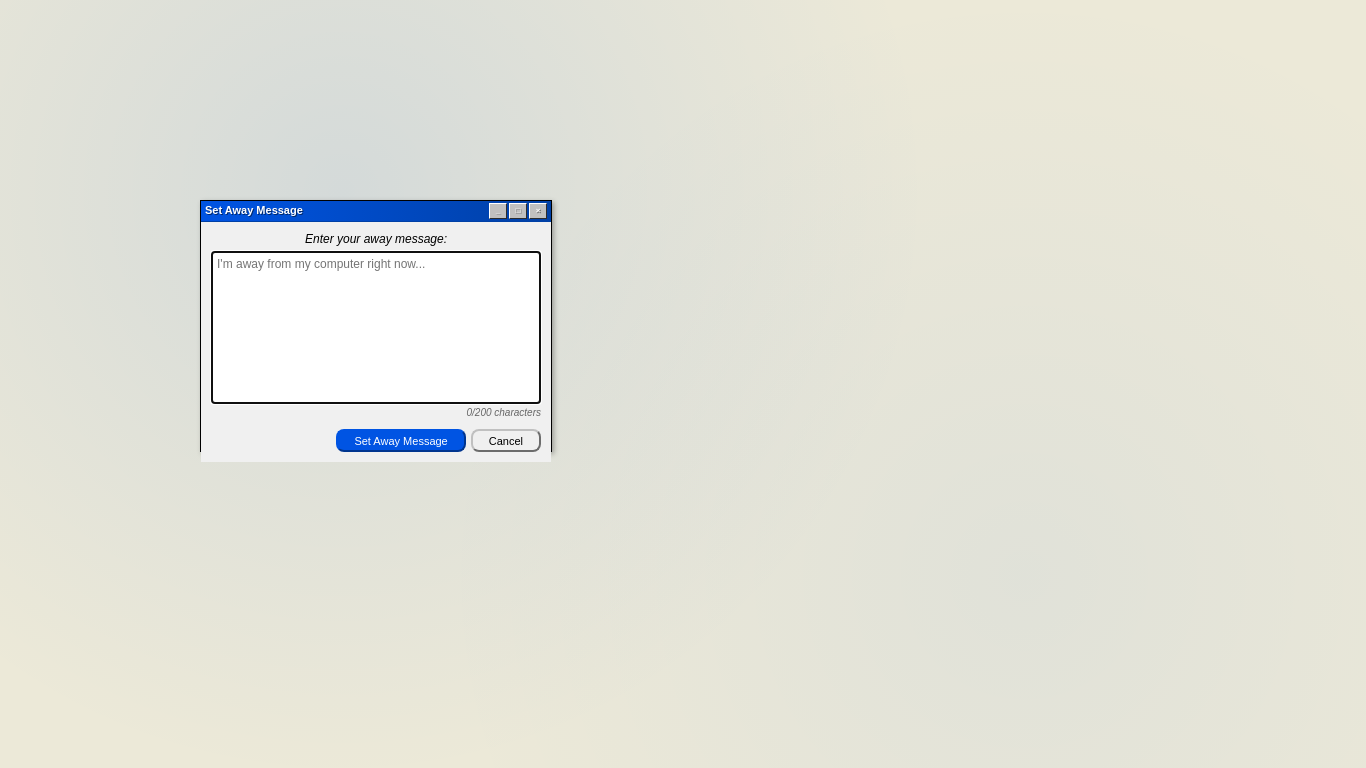
Test case: AwayMessageDialog Component › updates character count when typing
In the text box with placeholder "I'm away from my computer right now...": (376, 328) [211,251,541,404], type "Be back soon"
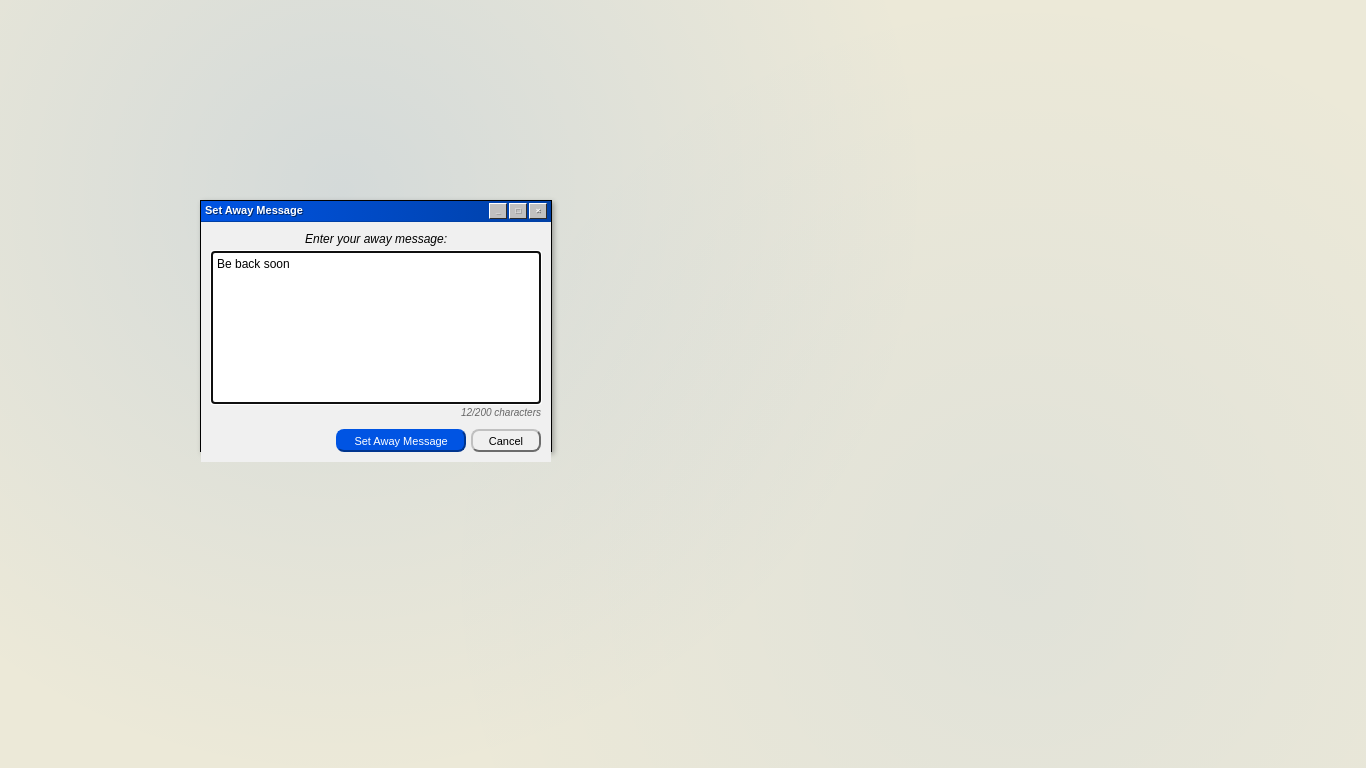
Expected: the text "12/200 characters" is shown, [461,407,541,418]
